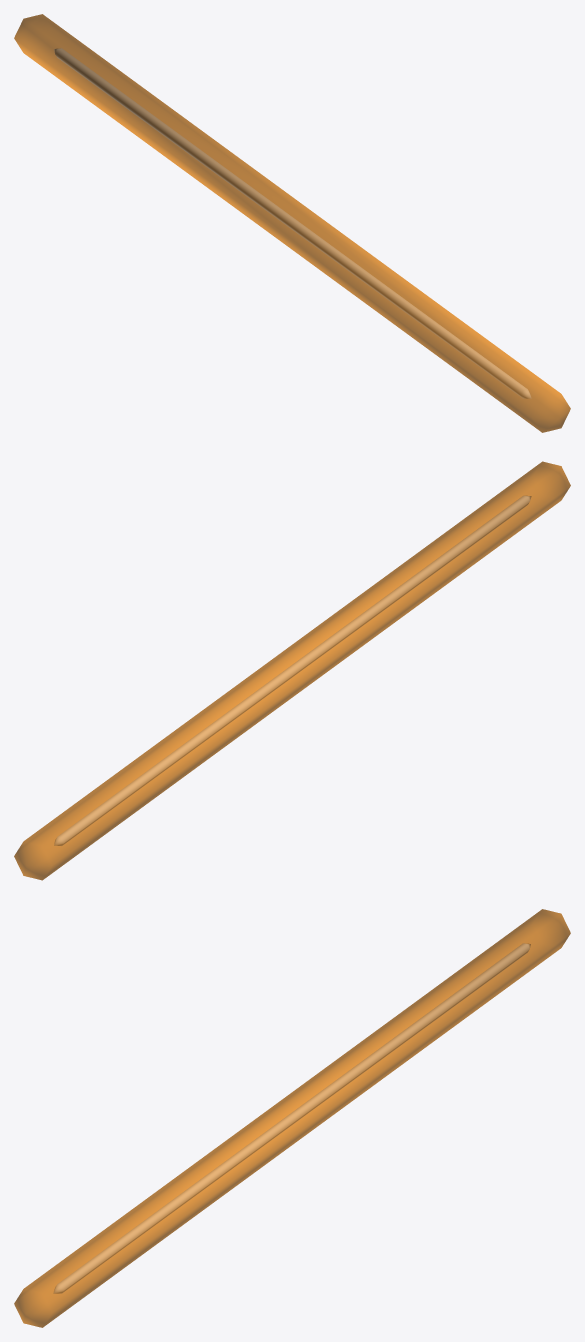
File: red_orange_laser_model.fbx
The picture shows the model from 3 angles, top to bottom: view 1: azimuth 30°, elevation 25°; view 2: azimuth 150°, elevation 25°; view 3: azimuth 330°, elevation 25°; orthographic projection.
Parts seen in each view (by area): view 1: glow, bolt; view 2: glow, bolt; view 3: glow, bolt.
Part boxes in pixels (bbox=[...]): glow: bbox=[14, 14, 570, 432]; bolt: bbox=[54, 48, 531, 398]; glow: bbox=[14, 461, 570, 880]; bolt: bbox=[54, 495, 531, 845]; glow: bbox=[14, 909, 570, 1327]; bolt: bbox=[53, 943, 530, 1293].
Bounding box in the file's own units: 3.15 × 2.73 × 76.43.
